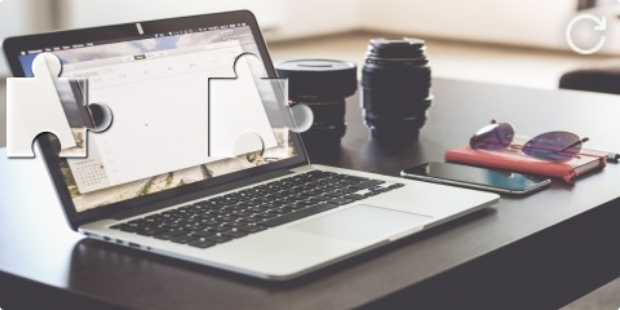target: (208, 52, 313, 158)
